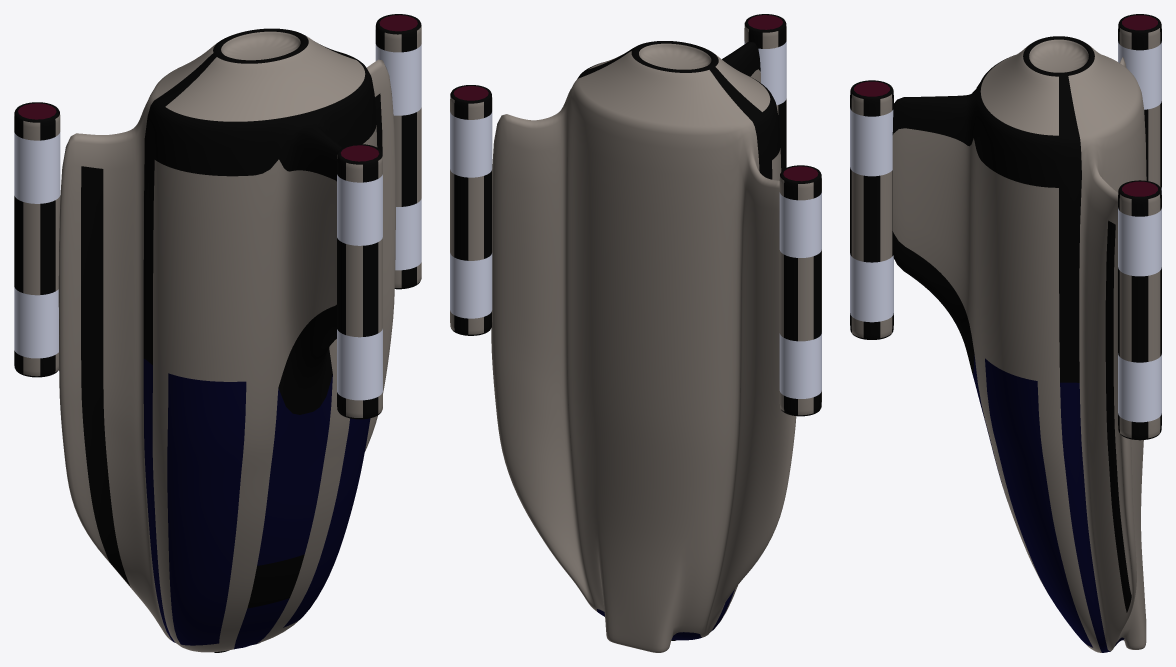
File: spaceship_d2.fbx
The picture shows the model from 3 angles, left to right: view 1: azimuth 30°, elevation 25°; view 2: azimuth 150°, elevation 25°; view 3: azimuth 270°, elevation 25°; orthographic projection. The views are drawn at different scales.
Parts seen in each view (by area): view 1: Ship, Engine_Top, Engine_Right, Engine_Left; view 2: Ship, Engine_Right, Engine_Left, Engine_Top; view 3: Ship, Engine_Left, Engine_Top, Engine_Right.
Boxes of the visible parts, x1=… form: Ship: x1=58, y1=28, x2=395, y2=652; Engine_Top: x1=337, y1=144, x2=382, y2=419; Engine_Right: x1=14, y1=102, x2=60, y2=377; Engine_Left: x1=375, y1=14, x2=421, y2=289; Ship: x1=491, y1=41, x2=796, y2=652; Engine_Right: x1=779, y1=165, x2=821, y2=416; Engine_Left: x1=450, y1=85, x2=492, y2=335; Engine_Top: x1=744, y1=14, x2=786, y2=171; Ship: x1=892, y1=36, x2=1146, y2=652; Engine_Left: x1=1118, y1=180, x2=1161, y2=440; Engine_Top: x1=850, y1=80, x2=893, y2=339; Engine_Right: x1=1118, y1=14, x2=1161, y2=194.
Bounding box in the file's own units: 7.37 × 10.84 × 5.25.
